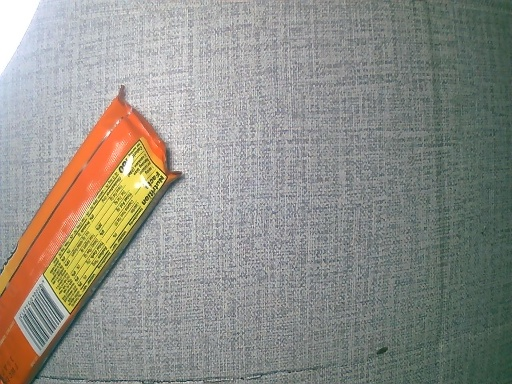plastic: (1, 88, 180, 384)
